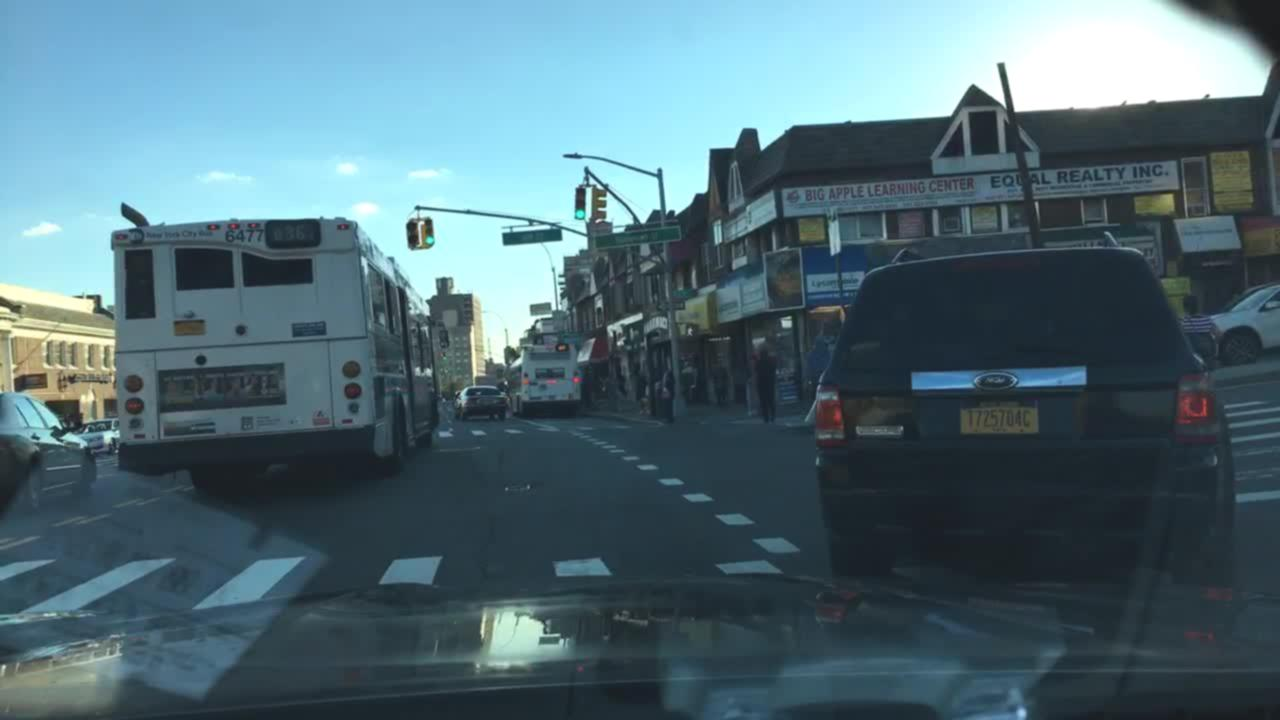ford: (971, 363, 1023, 396)
